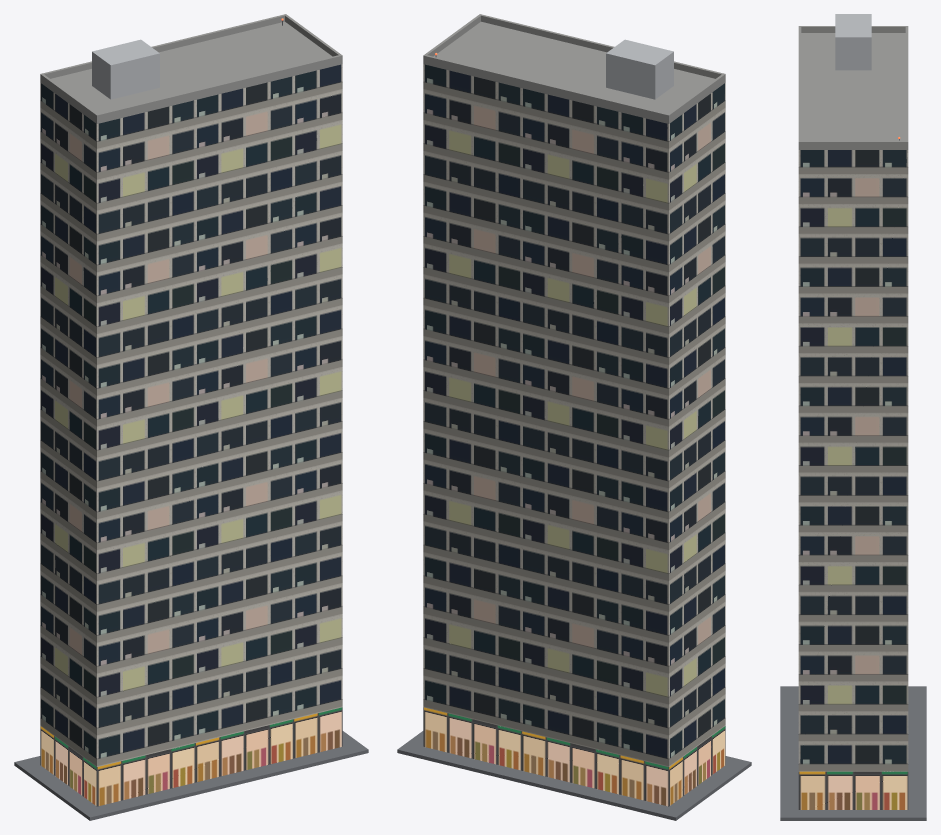
Rendered from apartment_tower.glb.
The picture shows the model from 3 angles, left to right: view 1: azimuth 30°, elevation 25°; view 2: azimuth 150°, elevation 25°; view 3: azimuth 270°, elevation 25°; orthographic projection. The views are drawn at different scales.
Visible parts, largest first — view 1: apartment_tower; view 2: apartment_tower; view 3: apartment_tower.
Part boxes in pixels (<box>): apartment_tower: <box>14,14,368,820</box>; apartment_tower: <box>397,14,751,820</box>; apartment_tower: <box>780,14,926,820</box>.
Size of the model in its own units: 34 by 84.3 by 16.
Materials: 6 (2 with a texture image).
